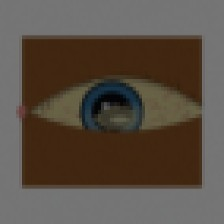corneal_ulcer: (83, 92, 150, 145)
